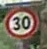limite 30: (3, 7, 38, 38)
